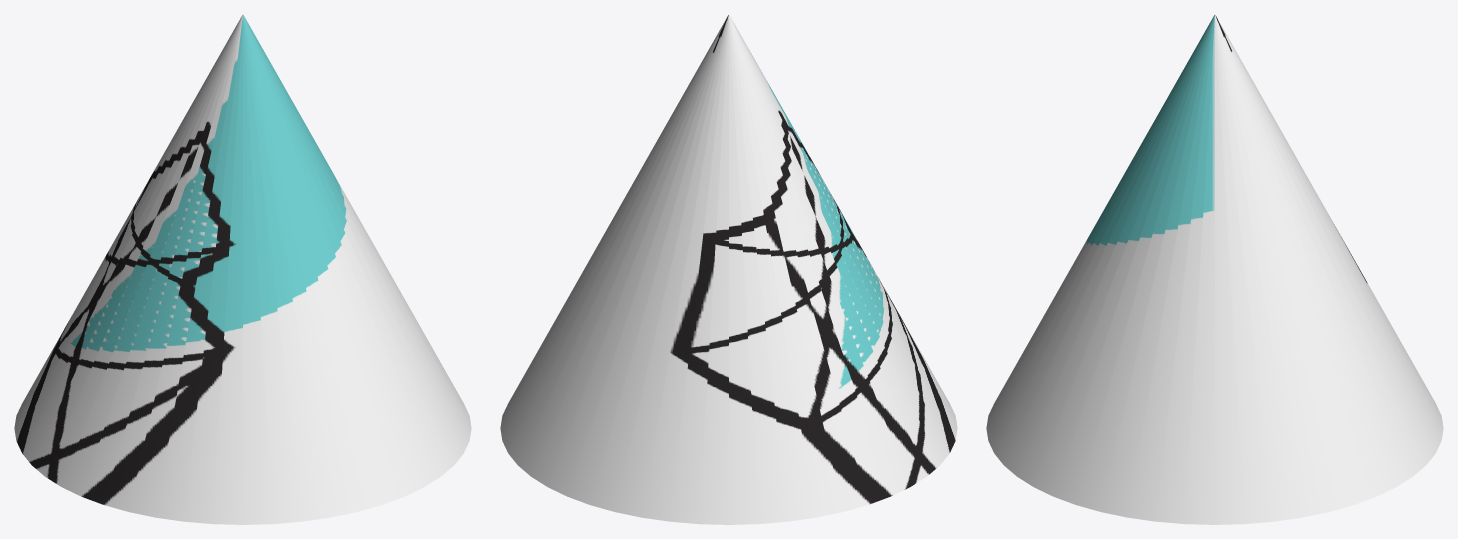
Rendered from ConeRegular.fbx.
3 renders of one model, left to right at view 1: azimuth 30°, elevation 25°; view 2: azimuth 150°, elevation 25°; view 3: azimuth 270°, elevation 25°, orthographic.
Visible parts, largest first — view 1: Cone; view 2: Cone; view 3: Cone.
Part boxes in pixels (left/top/right/bottom): Cone: left=14, top=14, right=471, bottom=524; Cone: left=500, top=14, right=957, bottom=524; Cone: left=986, top=14, right=1443, bottom=524.
Bounding box in the file's own units: 200 × 200 × 200.
Materials: 1 (1 with a texture image).
